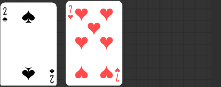2C: (48, 67, 55, 84)
7H: (113, 66, 120, 82)
